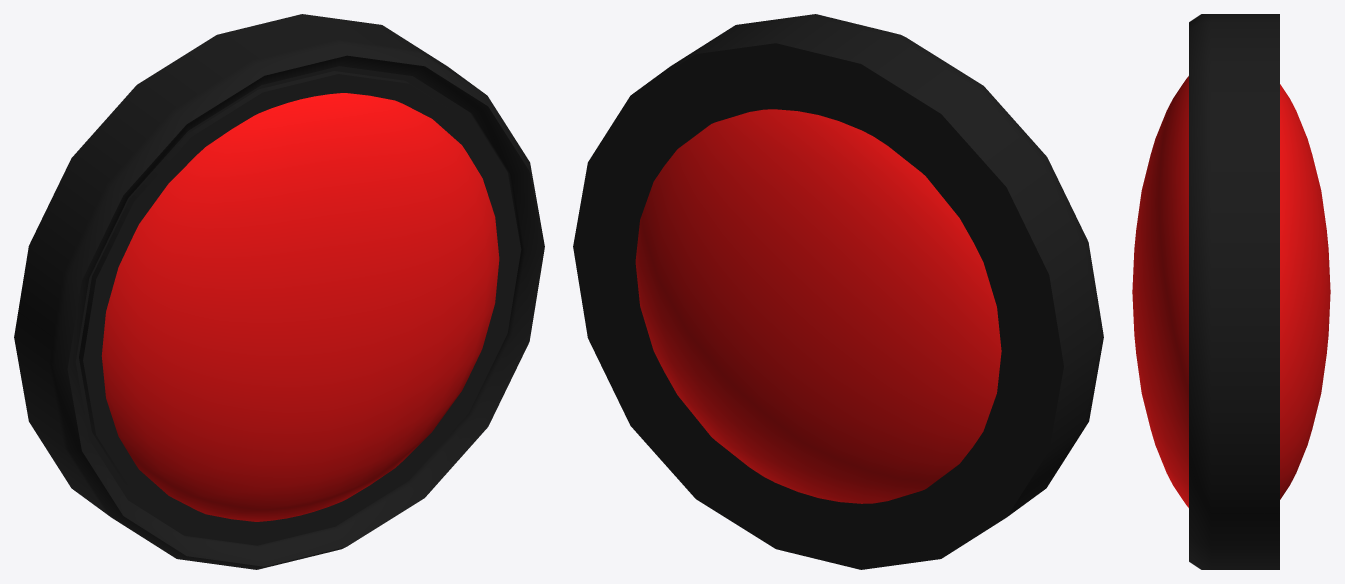
File: Camera_Eye.FBX
3 renders of one model, left to right at view 1: azimuth 30°, elevation 25°; view 2: azimuth 150°, elevation 25°; view 3: azimuth 270°, elevation 25°, orthographic.
Visible parts, largest first — view 1: Camera_Eye; view 2: Camera_Eye; view 3: Camera_Eye.
Part boxes in pixels (x1,y1,x2,y2): Camera_Eye: (14, 14, 544, 569); Camera_Eye: (573, 14, 1103, 569); Camera_Eye: (1132, 14, 1330, 569).
Bounding box in the file's own units: 12.08 × 11.9 × 4.29.
